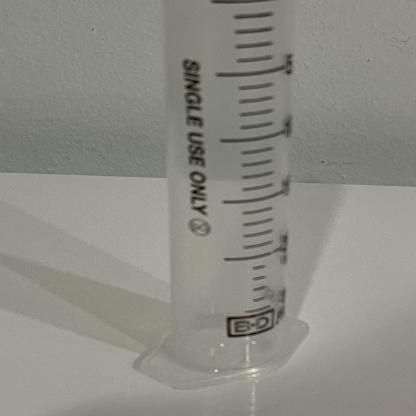dry: (110, 4, 328, 377)
